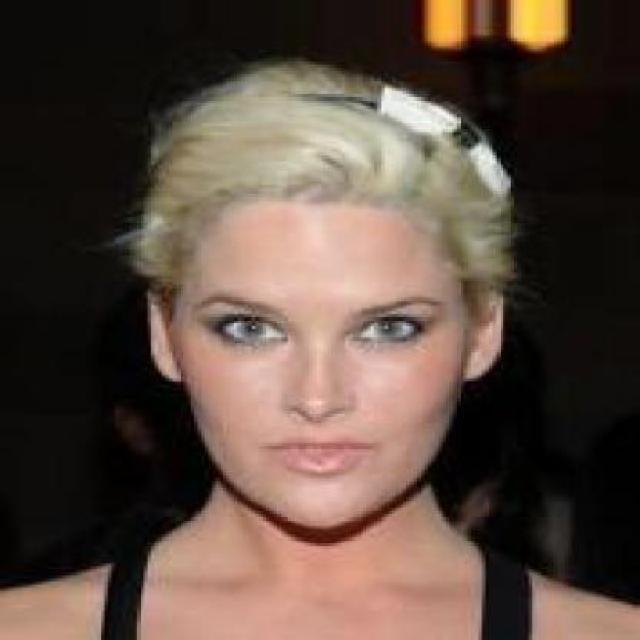closed-mouth: (273, 434, 367, 474)
